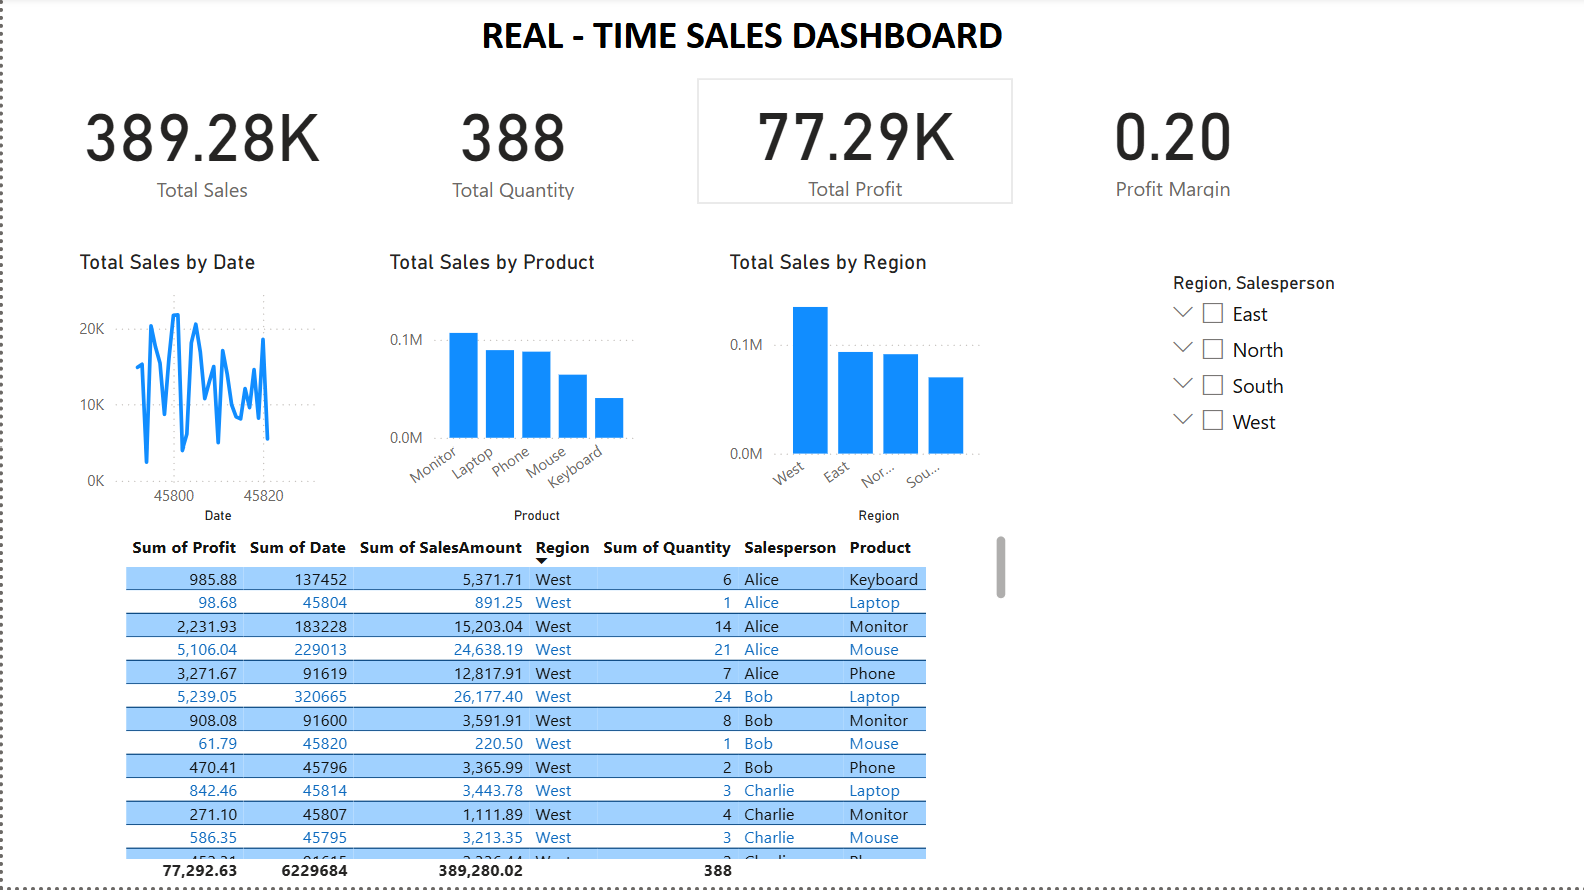

This screenshot's page, from the dashboard's own definition file:
{"tool":"powerbi","page":{"name":"Page 1","canvas":[1280,720],"ordinal":0},"visuals":[{"type":"card","fields":{"Values":["Sheet1.Total Sales"]},"box":[27.5,59.9,267,116.5],"z":0},{"type":"card","fields":{"Values":["Sheet1.Total Profit"]},"box":[561.4,66.3,255.6,101.9],"z":1},{"type":"card","fields":{"Values":["Sheet1.Total Quantity"]},"box":[294.5,66.3,236.2,103.6],"z":3},{"type":"card","fields":{"Values":["Sheet1.Profit Margin"]},"box":[838.1,66.3,216.8,101.9],"z":4},{"type":"lineChart","fields":{"Category":["Sheet1.Date"],"Y":["Sheet1.Total Sales"]},"box":[56.6,205.5,212,224.9],"z":5},{"type":"columnChart","fields":{"Category":["Sheet1.Product"],"Y":["Sheet1.Total Sales"]},"box":[307.4,205.5,212,224.9],"z":6},{"type":"columnChart","fields":{"Category":["Sheet1.Region"],"Y":["Sheet1.Total Sales"]},"box":[582.5,205.5,215.2,224.9],"z":7},{"type":"tableEx","fields":{"Values":["Sheet1.Profit","Sheet1.Date","Sheet1.SalesAmount","Sheet1.Region","Sheet1.Quantity","Sheet1.Salesperson","Sheet1.Product"]},"box":[93.8,430.4,723.2,289.6],"z":8},{"type":"slicer","fields":{"Values":["Sheet1.Region","Sheet1.Salesperson"]},"box":[933.6,218.4,346.2,233],"z":9},{"type":"textbox","box":[163.4,6.5,868.9,59.9],"z":10}]}

Visuals, with their boxes in screenshot pixels (x1, y1, x2, y2), scaled from the page's 1280x720 canvas onto the 1584x890 screenshot:
card - Sheet1.Total Sales: crop(34, 74, 364, 218)
card - Sheet1.Total Profit: crop(695, 82, 1011, 208)
card - Sheet1.Total Quantity: crop(364, 82, 657, 210)
card - Sheet1.Profit Margin: crop(1037, 82, 1305, 208)
lineChart - Sheet1.Date x Sheet1.Total Sales: crop(70, 254, 332, 532)
columnChart - Sheet1.Product x Sheet1.Total Sales: crop(380, 254, 643, 532)
columnChart - Sheet1.Region x Sheet1.Total Sales: crop(721, 254, 987, 532)
tableEx - Sheet1.Profit x Sheet1.Date: crop(116, 532, 1011, 889)
slicer - Sheet1.Region x Sheet1.Salesperson: crop(1155, 270, 1583, 558)
textbox: crop(202, 8, 1277, 82)
